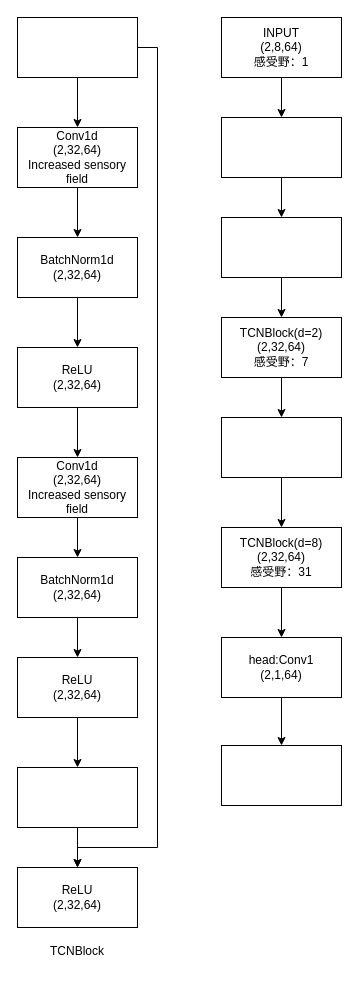
This 359x984 diagram has some shape labels left out. The shapes that lost their labels are listed below. From the top down, each one's centre as x and y in pixels, then its label:
pixel 77 47: INPUT (2,32,64)
pixel 281 147: Conv1d (2,32,64) 感受野：1
pixel 281 247: TCNBlock(d=1) (2,32,64) 感受野：3
pixel 281 447: TCNBlock(d=4) (2,32,64) 感受野：15
pixel 281 775: OUTPUT (2,1,64)
pixel 77 797: Dropout=0.1 (2,32,64)
